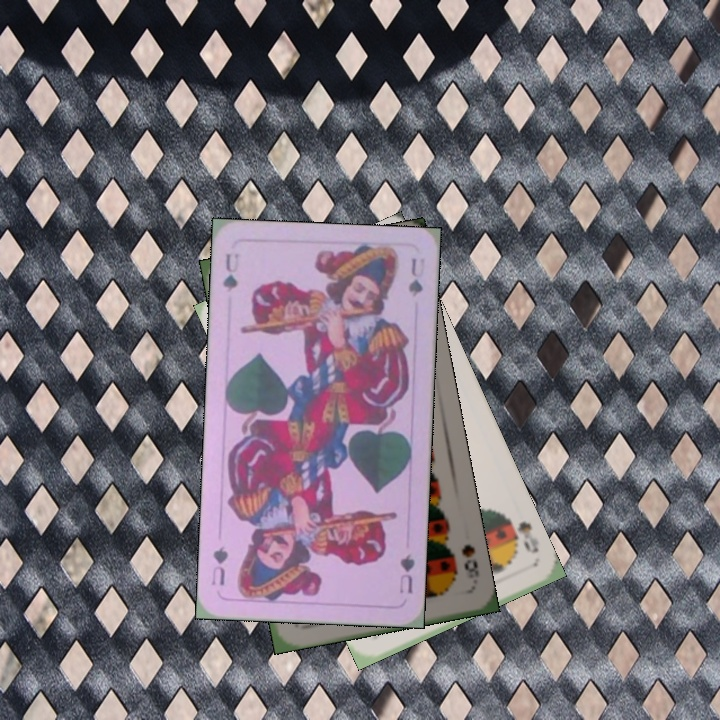GU: (219, 249, 242, 295), (396, 550, 417, 596)
S8: (457, 540, 482, 581)
SO: (513, 517, 541, 556)
